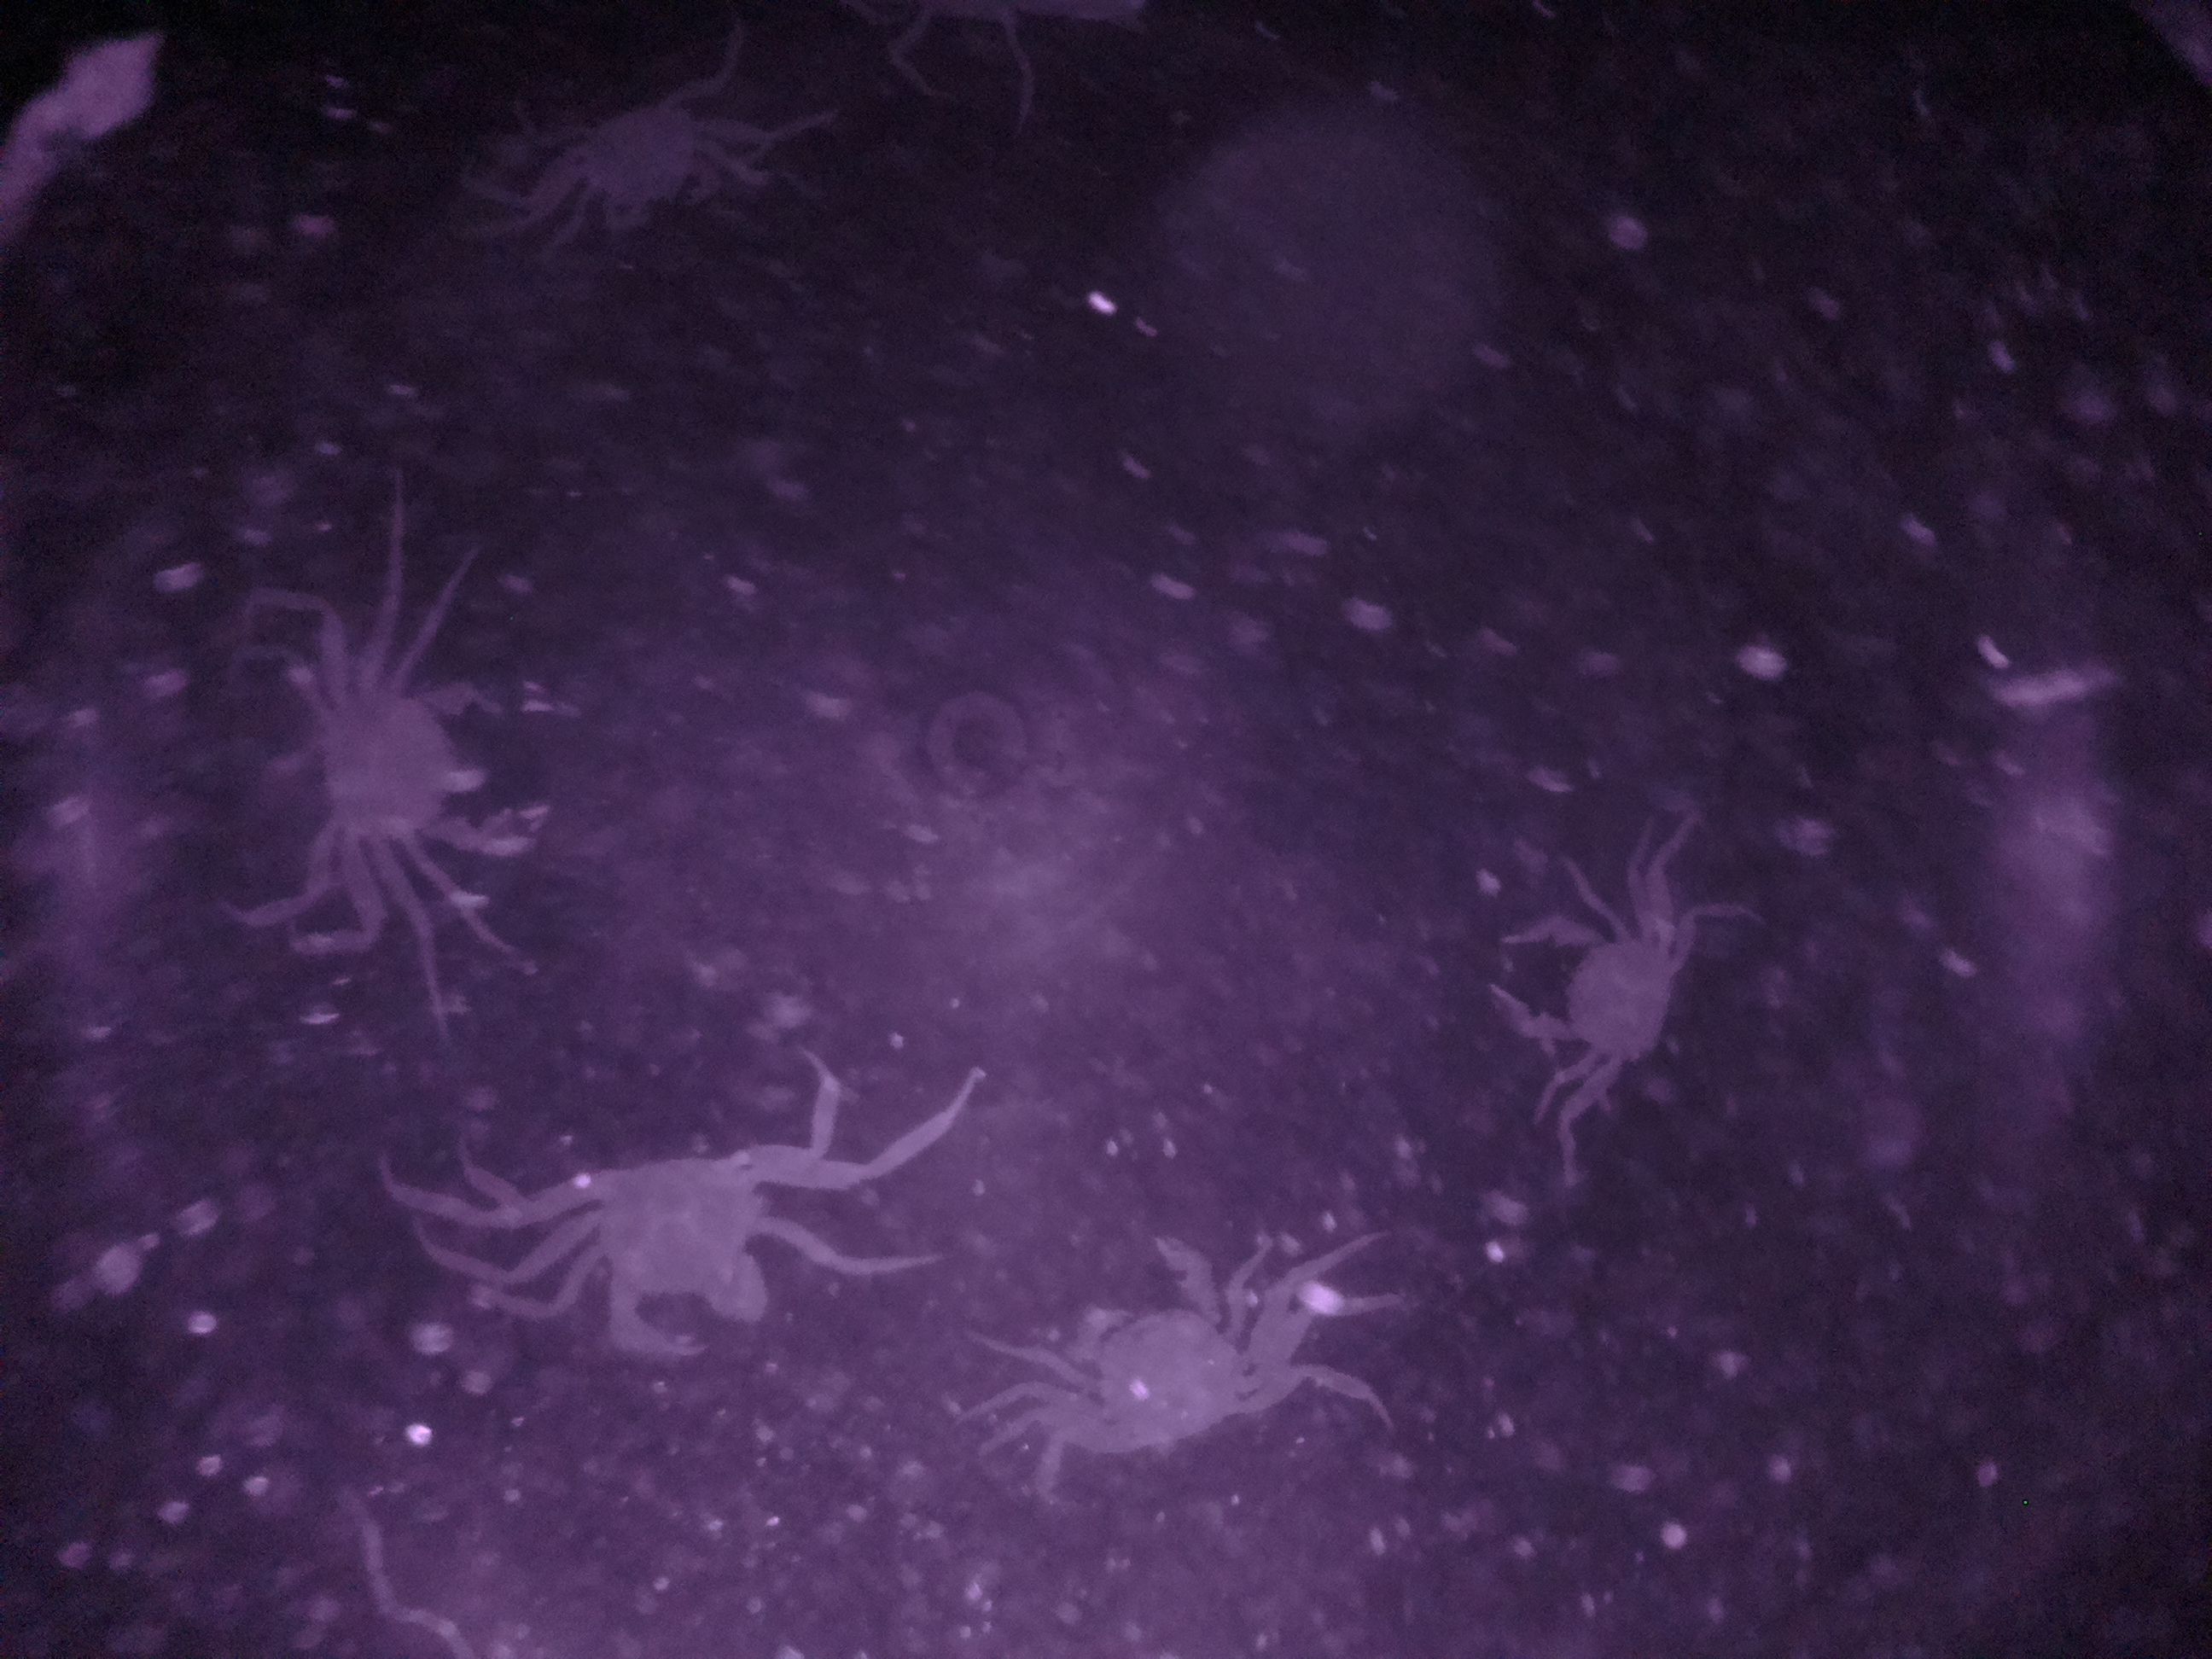Crab: (235, 650, 631, 892), (1031, 1223, 1289, 1502), (531, 1121, 794, 1378), (1449, 877, 1719, 1108), (535, 84, 770, 254)
